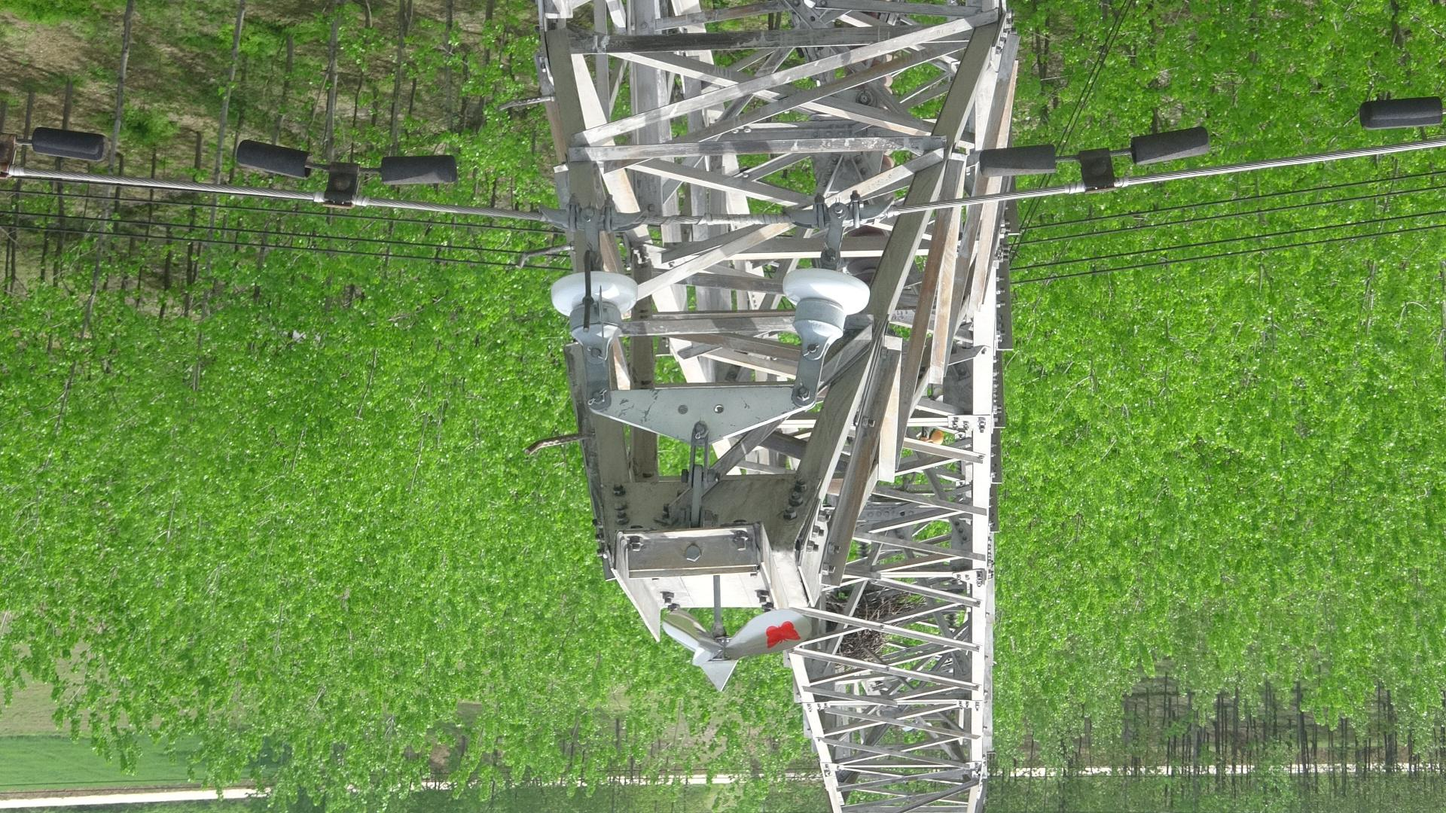damper: (969, 117, 1218, 208), (225, 130, 468, 220)
nest: (825, 591, 907, 661)
